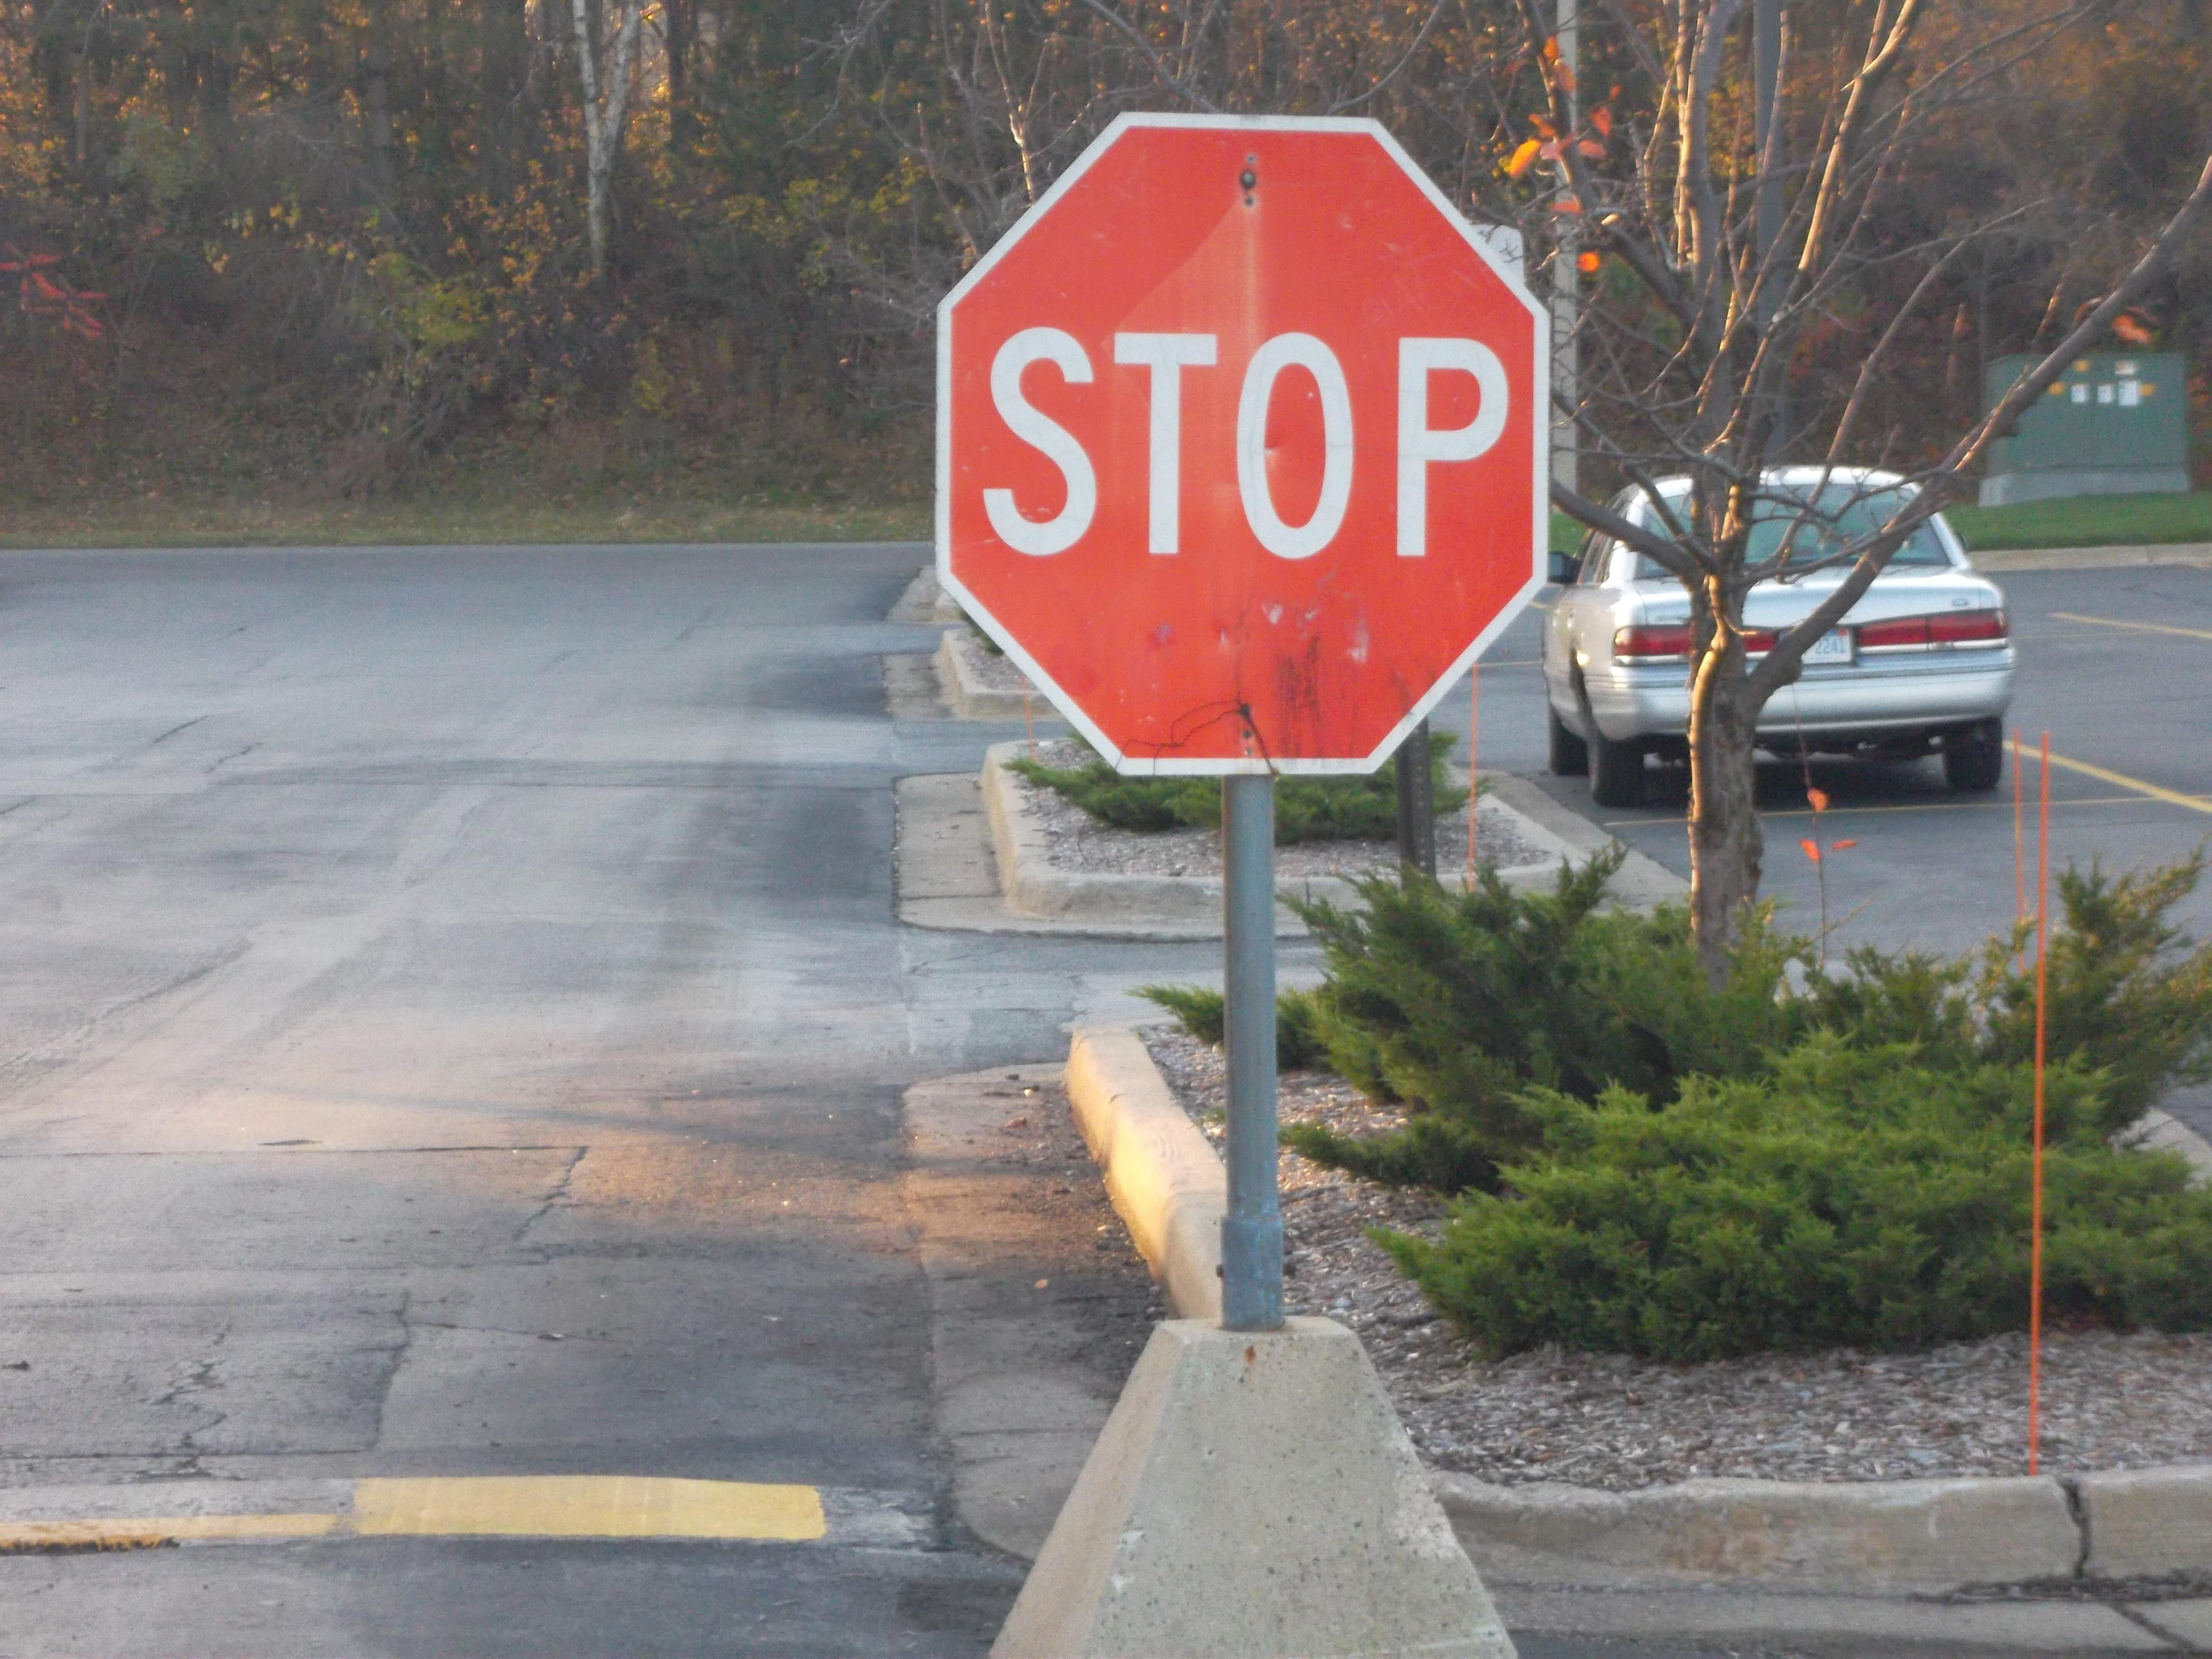stop: (923, 113, 1559, 775)
